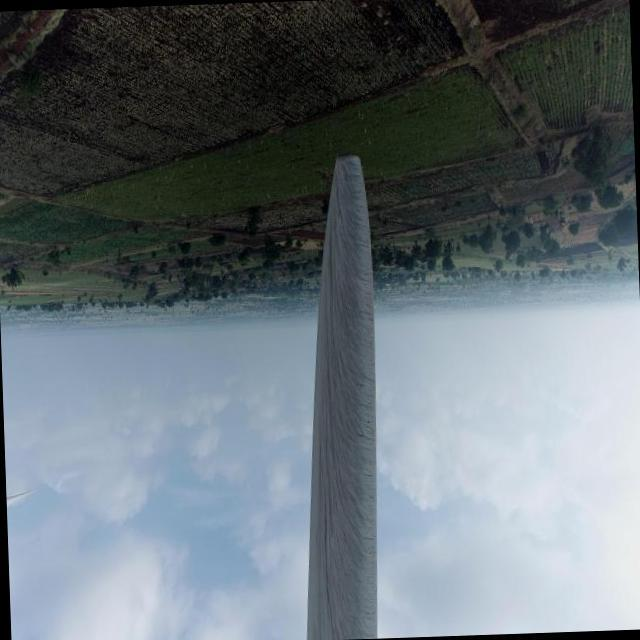Dirt: (306, 151, 385, 640)
